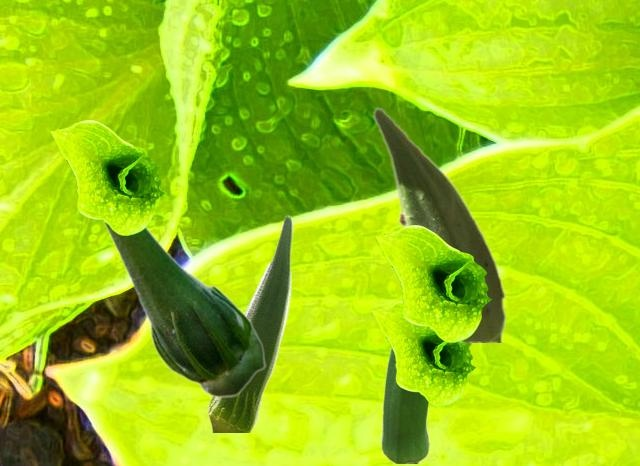okra: (372, 106, 504, 341), (102, 221, 265, 397), (207, 214, 292, 431), (380, 347, 430, 462)
